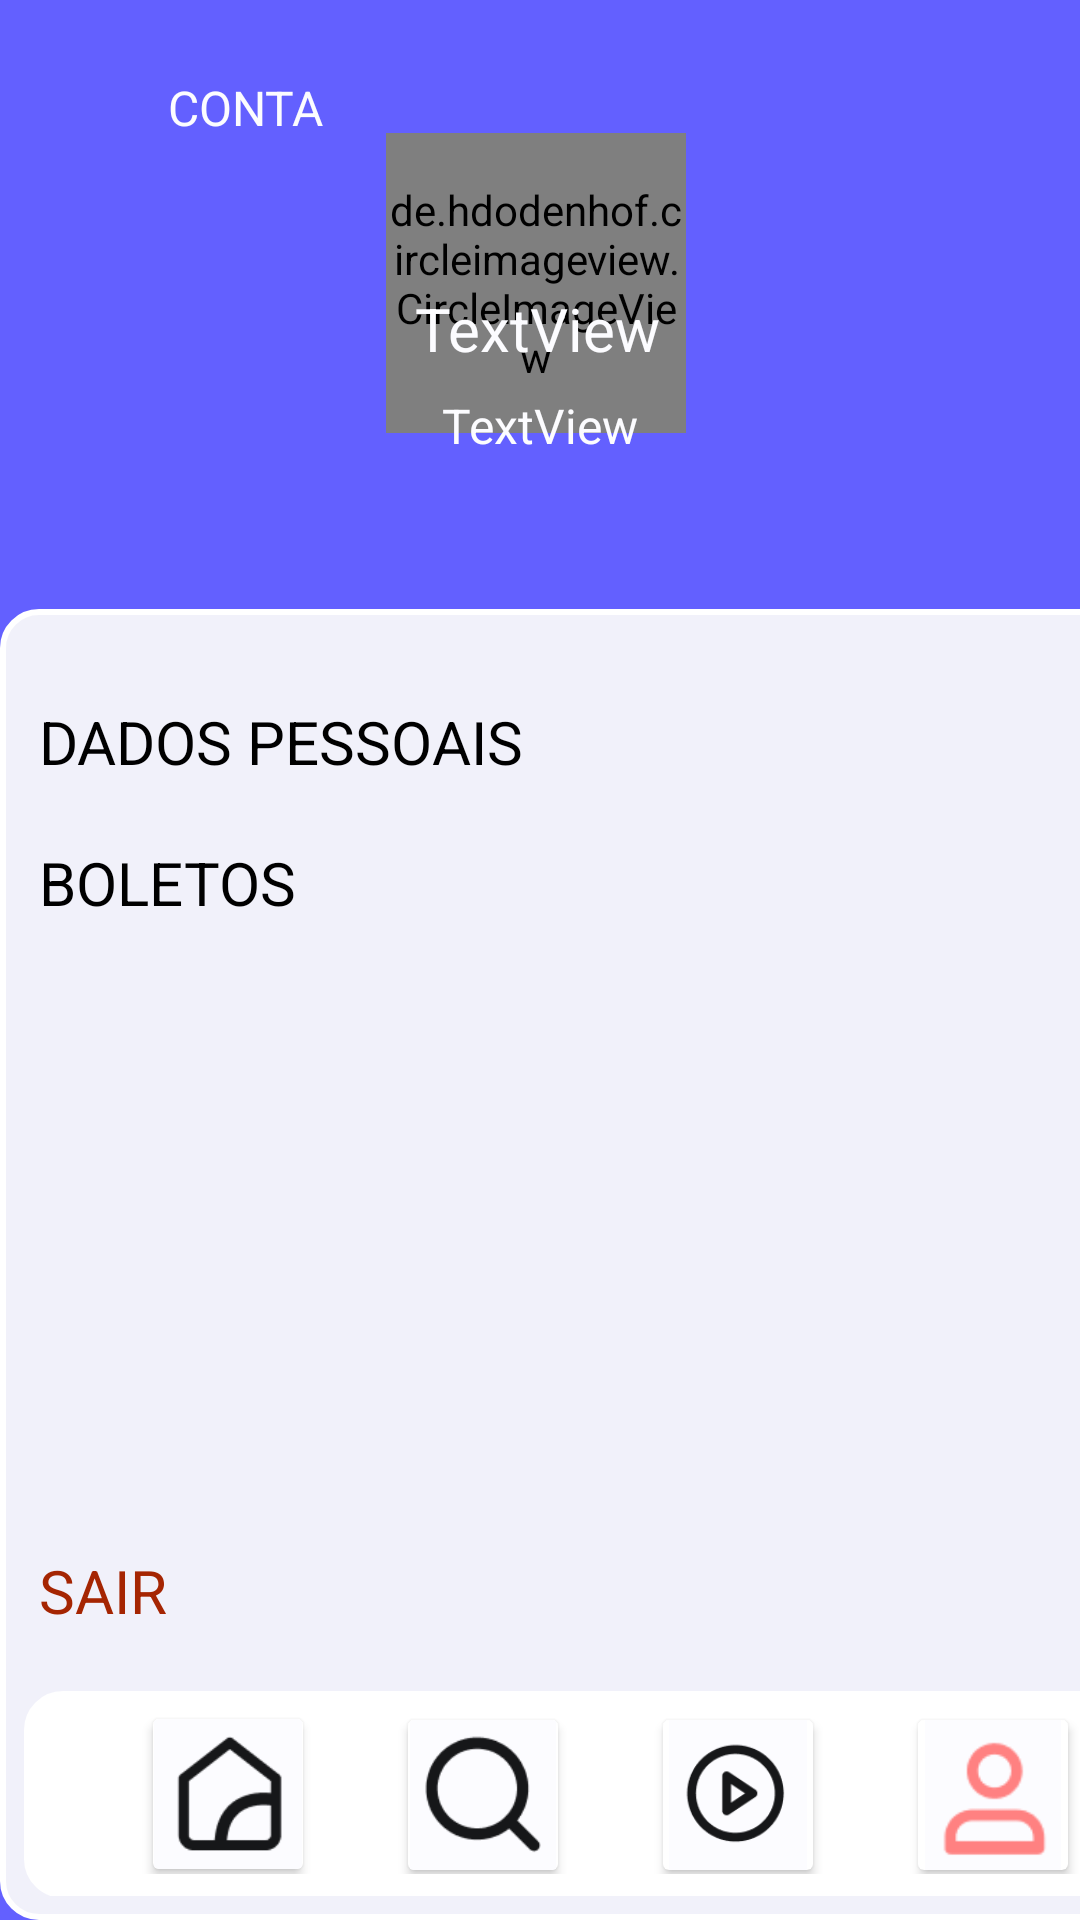

Named icons in this screenshot (1080px×1920px) and their centers, [x,y]:
homeblack: [227,1803]
lupa: [483,1803]
userselect: [994,1806]
video: [738,1807]
